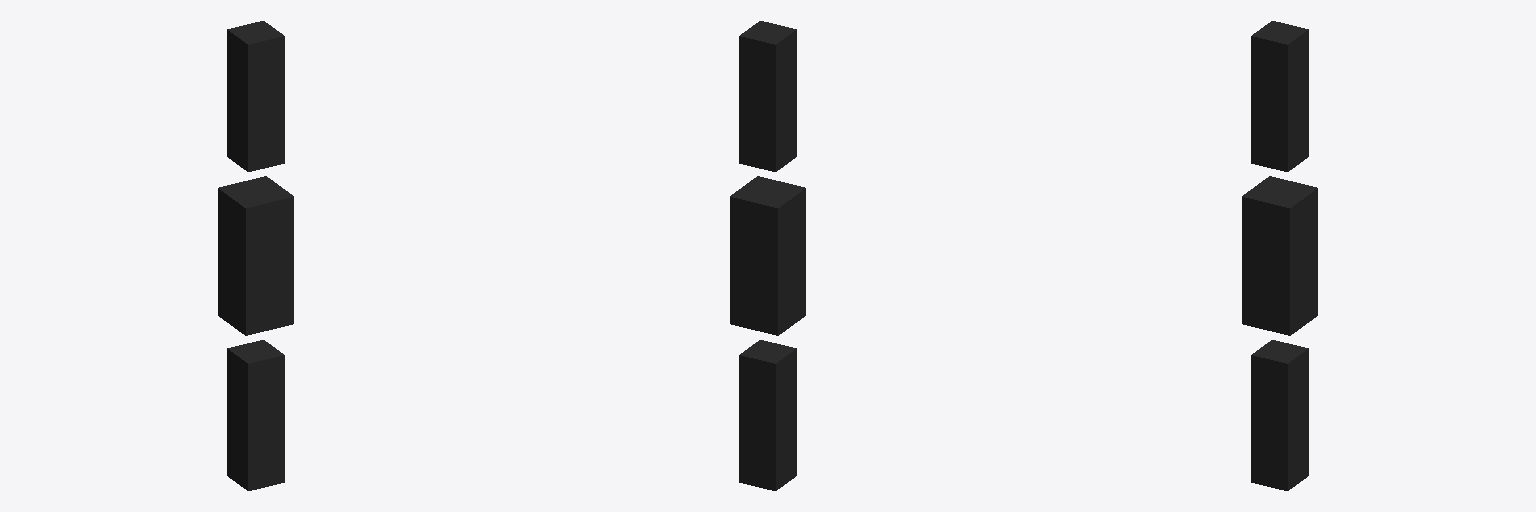
robot.urdf — inertiabot3:
<robot name="inertiabot3" >
    <link name="leg_A">
        <inertial>
            <origin rpy="0 0 0" xyz="0.0 0.0 0.0"/>
            <mass value="1.0"/>
            <inertia ixx="1.0" ixy="0.0" ixz="0.0" iyy="1.0" iyz="0.0" izz="1.0"/>
        </inertial>
        <visual>
            <origin rpy="0 0 0" xyz="0.0 0 0.0"/>
            <geometry name="leg_A_visual">
                <!--mesh filename="sr_description/arm/model/elbow_flex.dae" scale="0.001 0.001 0.001"/-->
                <box size="0.03 0.03 0.10"/>
            </geometry>
            <material name="Grey"/>
        </visual>
        <collision>
            <origin rpy="0 0 0" xyz="0.0 0.0 0.0"/>
            <geometry name="leg_A_collision">
                <box size="0.03 0.03 0.10"/>
            </geometry>
        </collision>
    </link>
    <link name="body">
        <inertial>
            <origin rpy="0 0 0" xyz="0.0 0.0 0.0"/>
            <mass value="1.0"/>
            <inertia ixx="1.0" ixy="0.0" ixz="0.0" iyy="1.0" iyz="0.0" izz="1.0"/>
        </inertial>
        <visual>
            <origin rpy="0 0 0" xyz="0.0 0 0.0"/>
            <geometry name="body_visual">
                <!--mesh filename="sr_description/arm/model/elbow_flex.dae" scale="0.001 0.001 0.001"/-->
                <box size="0.04 0.04 0.10"/>
            </geometry>
            <material name="Grey"/>
        </visual>
        <collision>
            <origin rpy="0 0 0" xyz="0.0 0.0 0.0"/>
            <geometry name="body_collision">
                <box size="0.04 0.04 0.10"/>
            </geometry>
        </collision>
    </link>
    <link name="leg_B">
        <inertial>
            <origin rpy="0 0 0" xyz="0.0 0.0 0.0"/>
            <mass value="1.0"/>
            <inertia ixx="1.0" ixy="0.0" ixz="0.0" iyy="1.0" iyz="0.0" izz="1.0"/>
        </inertial>
        <visual>
            <origin rpy="0 0 0" xyz="0.0 0 0.0"/>
            <geometry name="leg_B_visual">
                <!--mesh filename="sr_description/arm/model/elbow_flex.dae" scale="0.001 0.001 0.001"/-->
                <box size="0.03 0.03 0.10"/>
            </geometry>
            <material name="Grey"/>
        </visual>
        <collision>
            <origin rpy="0 0 0" xyz="0.0 0.0 0.0"/>
            <geometry name="leg_B_collision">
                <box size="0.03 0.03 0.10"/>
            </geometry>
        </collision>
    </link>

    <joint name="HipA" type="revolute">
        <parent link="body"/>
        <child link="leg_A"/>
        <origin rpy="0.0 0.0 0.0" xyz="0.0 0.0 -0.125"/>
        <axis xyz="0 1 0"/>
        <limit effort="10" lower="-1.57079632679" upper="1.57079632679" velocity="1.0"/>
        <dynamics damping="10.5"/>
    </joint>
    <joint name="HipB" type="revolute">
        <parent link="body"/>
        <child link="leg_B"/>
        <origin rpy="0.0 0.0 0.0" xyz="0.0 0.0 0.125"/>
        <axis xyz="0 1 0"/>
        <limit effort="10" lower="-1.57079632679" upper="1.57079632679" velocity="1.0"/>
        <dynamics damping="10.5"/>
    </joint>
    
    
    <material name="Blue">
        <color rgba="0.0 0.0 0.8 1.0"/>
    </material>
    <material name="Green">
        <color rgba="0.0 0.8 0.0 1.0"/>
    </material>
    <material name="Grey">
        <color rgba="0.2 0.2 0.2 1.0"/>
    </material>
    <material name="LightGrey">
        <color rgba="0.6 0.6 0.6 1.0"/>
    </material>
    <material name="Red">
        <color rgba="0.8 0.0 0.0 1.0"/>
    </material>
    <material name="White">
        <color rgba="1.0 1.0 1.0 1.0"/>
    </material>
</robot>

--- Render facts (derived) ---
3 views of the same robot in one strip: view 1: azimuth 30°, elevation 25°; view 2: azimuth 150°, elevation 25°; view 3: azimuth 330°, elevation 25° (orthographic).
Model inertiabot3 with 3 links and 2 joints (2 revolute), rooted at body, posed all joints at 0.
Visible links, largest first — view 1: body, leg_A, leg_B; view 2: body, leg_A, leg_B; view 3: body, leg_A, leg_B.
Boxes of the visible links, x1,y1,x2,y2 form: body: (218, 176, 293, 335); leg_A: (227, 340, 284, 490); leg_B: (227, 21, 284, 171); body: (730, 176, 805, 335); leg_A: (739, 340, 796, 490); leg_B: (739, 21, 796, 171); body: (1242, 176, 1317, 335); leg_A: (1251, 340, 1308, 490); leg_B: (1251, 21, 1308, 171).
Bounding box of the posed robot: 0.04 × 0.04 × 0.35 m (x, y, z).
Geometry: primitives only (box / cylinder / sphere), no mesh files.